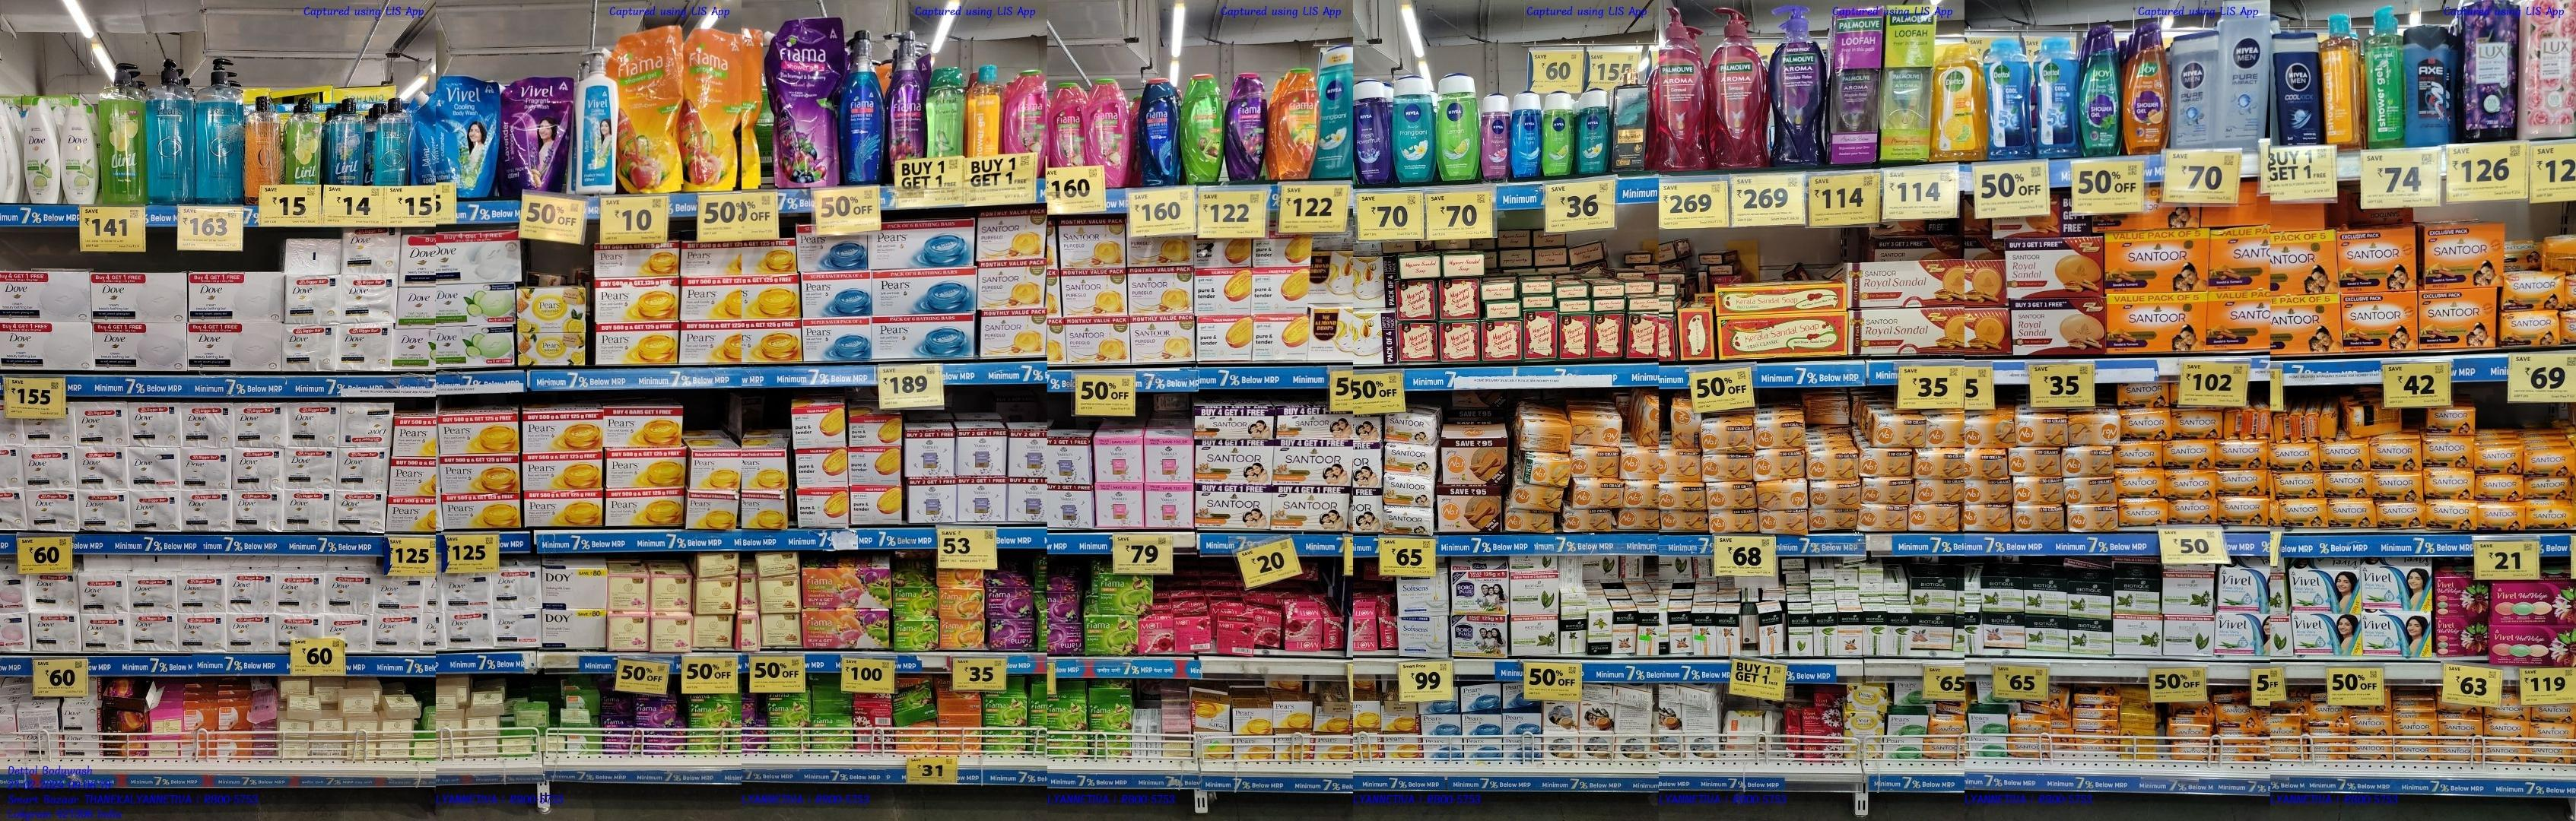Dettol_Bodywash_Cool: (1986, 39, 2034, 159), (2036, 38, 2083, 158)
Dettol_Bodywash_Refresh: (1934, 46, 1985, 161)
Dove_Refreshing_Body_Wash_250ML: (62, 95, 97, 205), (23, 103, 59, 204)
Fiama_Shower_Gel_Lemongrass_and_Jojoba_250ML: (1183, 72, 1222, 181)
Fiama_Shower_Gel_Patchouli_and_Macadamia_250ML: (1004, 71, 1048, 153), (1089, 80, 1132, 164), (1051, 82, 1086, 166)
Fiama_Shower_Gel_Peach_and_Avocado_250ML: (1276, 69, 1318, 179)
Joy_Shower_Gel_Mandarin_and_Lemongrass_250ML: (2123, 23, 2170, 149)
Joy_Shower_Gel_Mint_and_Eucalyptus_250ML: (2086, 31, 2119, 158)
Liril_Cooling_Mint_Body_Wash_250ML: (329, 99, 366, 184)
Liril_Lime_and_Tea_Tree_Oil_Body_Wash_250ML: (287, 95, 322, 184)
Nivea_Shower_Gel_Frangipani_and_Oil_250ML: (1321, 44, 1354, 177), (1393, 82, 1436, 184)
Nivea_Shower_Gel_Fresh_Powerfruit_250ML: (1355, 82, 1391, 186)
Nivea_Shower_Gel_Lemon_and_Oil_250ML: (1437, 76, 1479, 179)
Pears_Pure_Glycerin_and_Mint_Extracts_Body_Wash_250ML: (373, 94, 407, 186)
